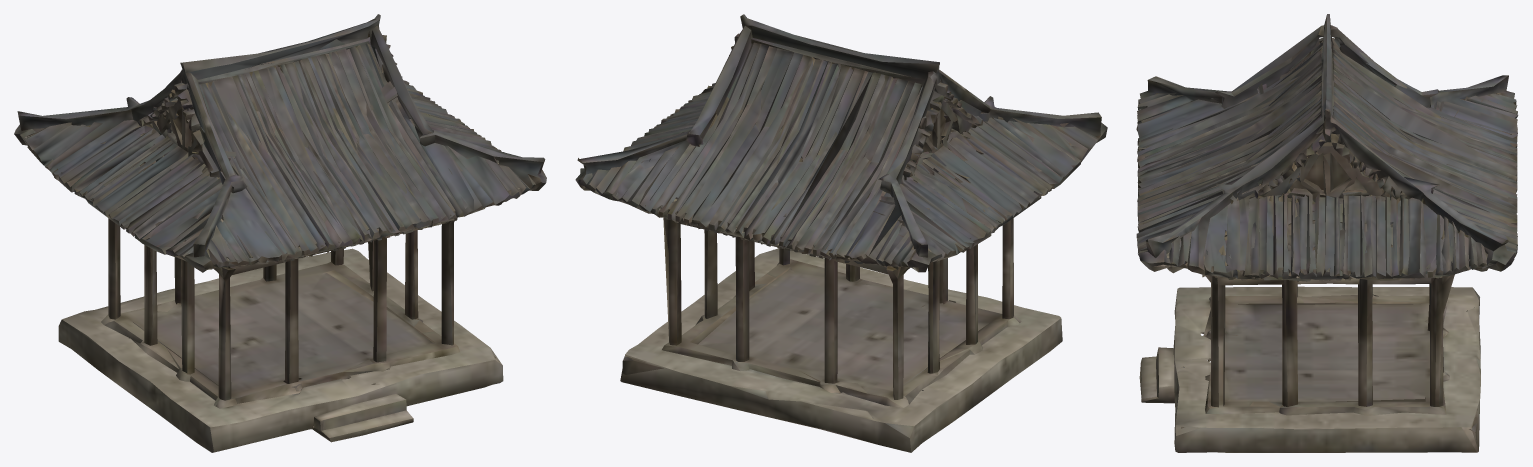
Rendered from ARCH-009.glb.
3 renders of one model, left to right at view 1: azimuth 30°, elevation 25°; view 2: azimuth 150°, elevation 25°; view 3: azimuth 270°, elevation 25°, orthographic.
Parts seen in each view (by area): view 1: world; view 2: world; view 3: world.
Part boxes in pixels (x1,y1,x2,y2): world: (14, 14, 546, 452); world: (575, 14, 1107, 452); world: (1136, 14, 1518, 452).
Size of the model in its own units: 4.5 by 3.88 by 4.17.
Materials: 1 (1 with a texture image).
